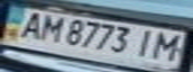3: (112, 24, 136, 56)
7: (78, 19, 100, 49), (96, 21, 115, 53)
8: (60, 17, 87, 47)
A: (12, 9, 48, 39)
I: (130, 27, 160, 58)
M: (148, 30, 187, 62), (33, 12, 66, 43)
